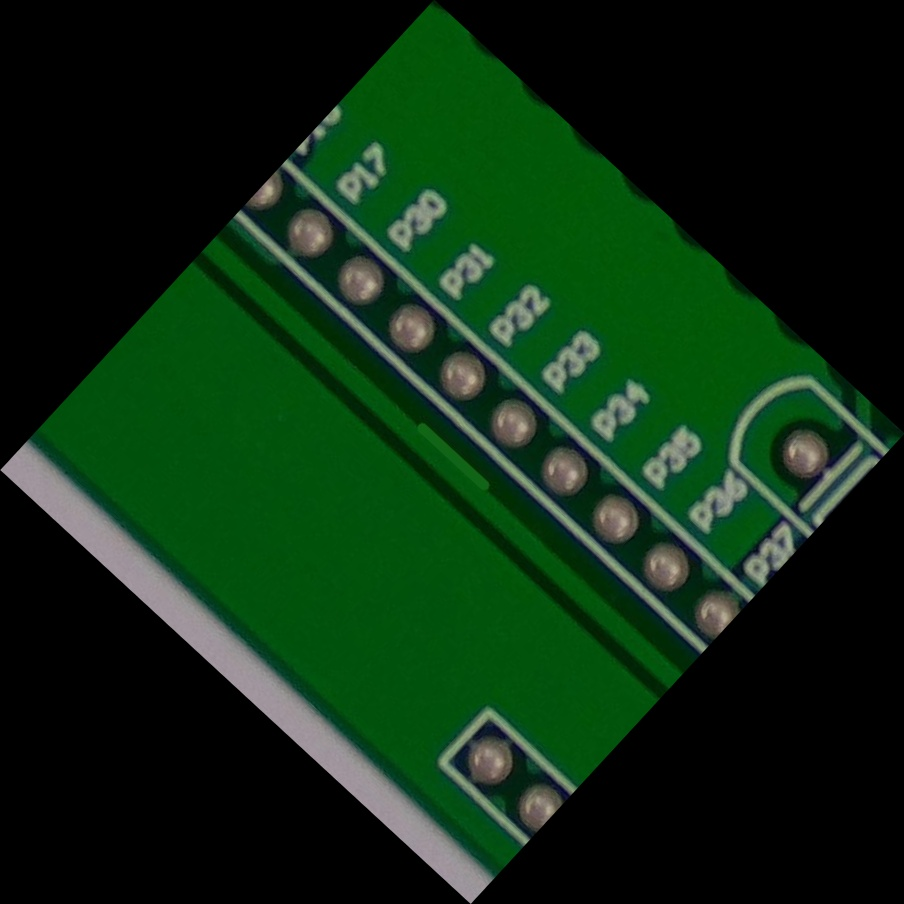spur: (382, 384, 522, 520)
